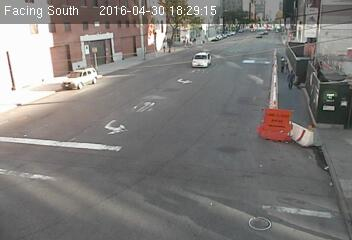neg: (264, 42, 281, 64), (264, 98, 279, 117)
pos: (285, 69, 301, 90)
